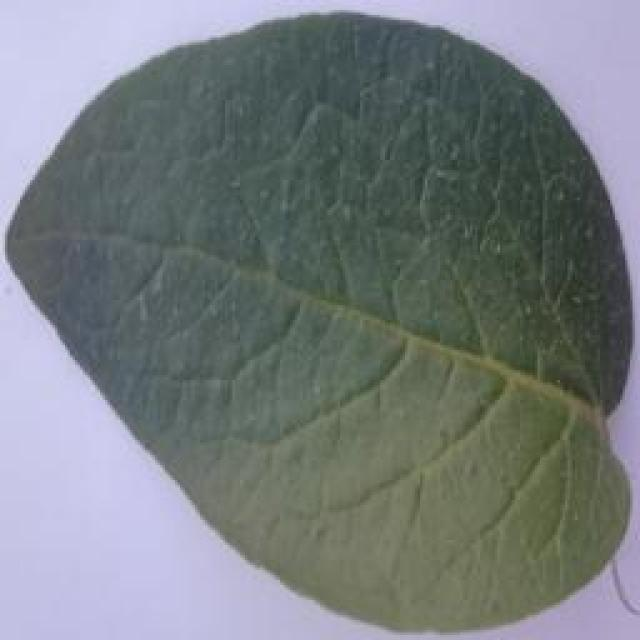Potato_Healthy: (6, 14, 625, 632)
